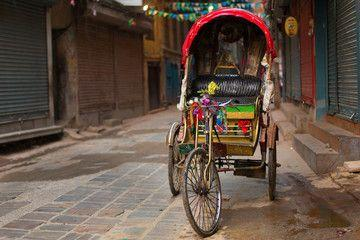Rickshaw: (167, 8, 277, 236)
